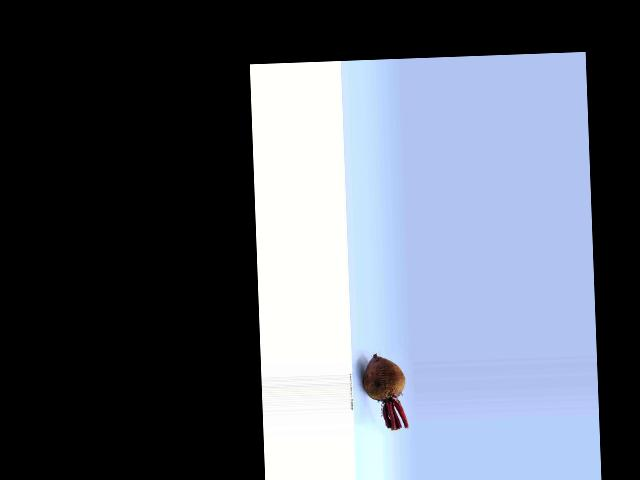beet: (362, 354, 407, 430)
